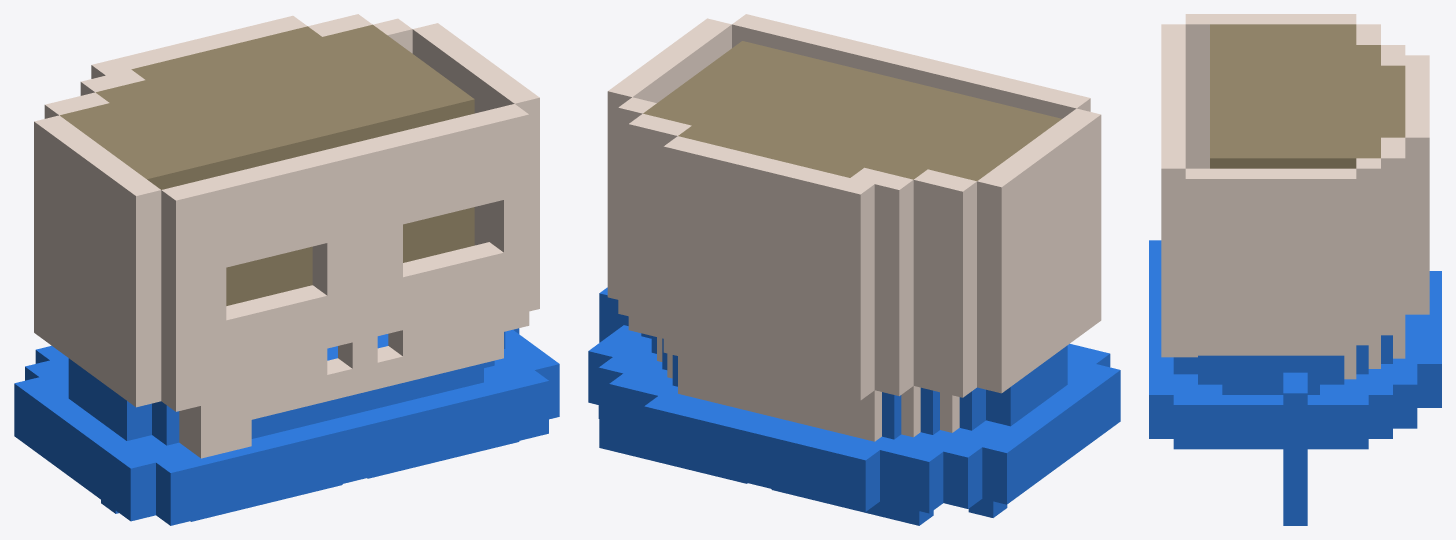
File: skeleton.glb
3 renders of one model, left to right at view 1: azimuth 30°, elevation 25°; view 2: azimuth 150°, elevation 25°; view 3: azimuth 270°, elevation 25°, orthographic. The views are drawn at different scales.
Parts seen in each view (by area): view 1: Base, Hat, in; view 2: Base, Hat, in, layer-1; view 3: Base, Hat, in, layer-1.
Part boxes in pixels (bbox=[...]): Base: bbox=[34, 14, 539, 458]; Hat: bbox=[14, 329, 559, 525]; in: bbox=[60, 24, 474, 305]; Base: bbox=[607, 14, 1101, 441]; Hat: bbox=[588, 325, 1120, 513]; in: bbox=[643, 41, 1061, 181]; layer-1: bbox=[599, 287, 1007, 525]; Base: bbox=[1161, 14, 1429, 379]; Hat: bbox=[1149, 240, 1441, 449]; in: bbox=[1210, 24, 1405, 168]; layer-1: bbox=[1283, 372, 1307, 525].
Size of the model in its own units: 18 by 15 by 12.
Materials: 9 (9 with a texture image).
